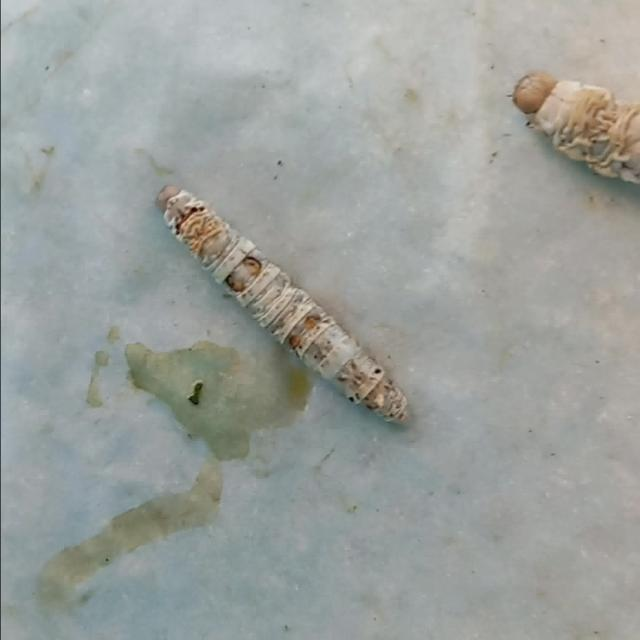Grasserie: (141, 166, 418, 455)
